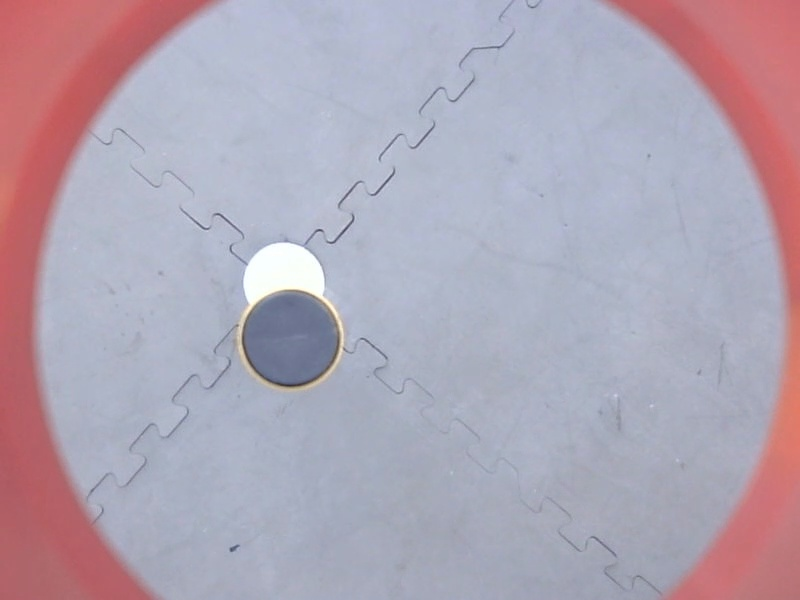tip: (232, 282, 350, 400)
